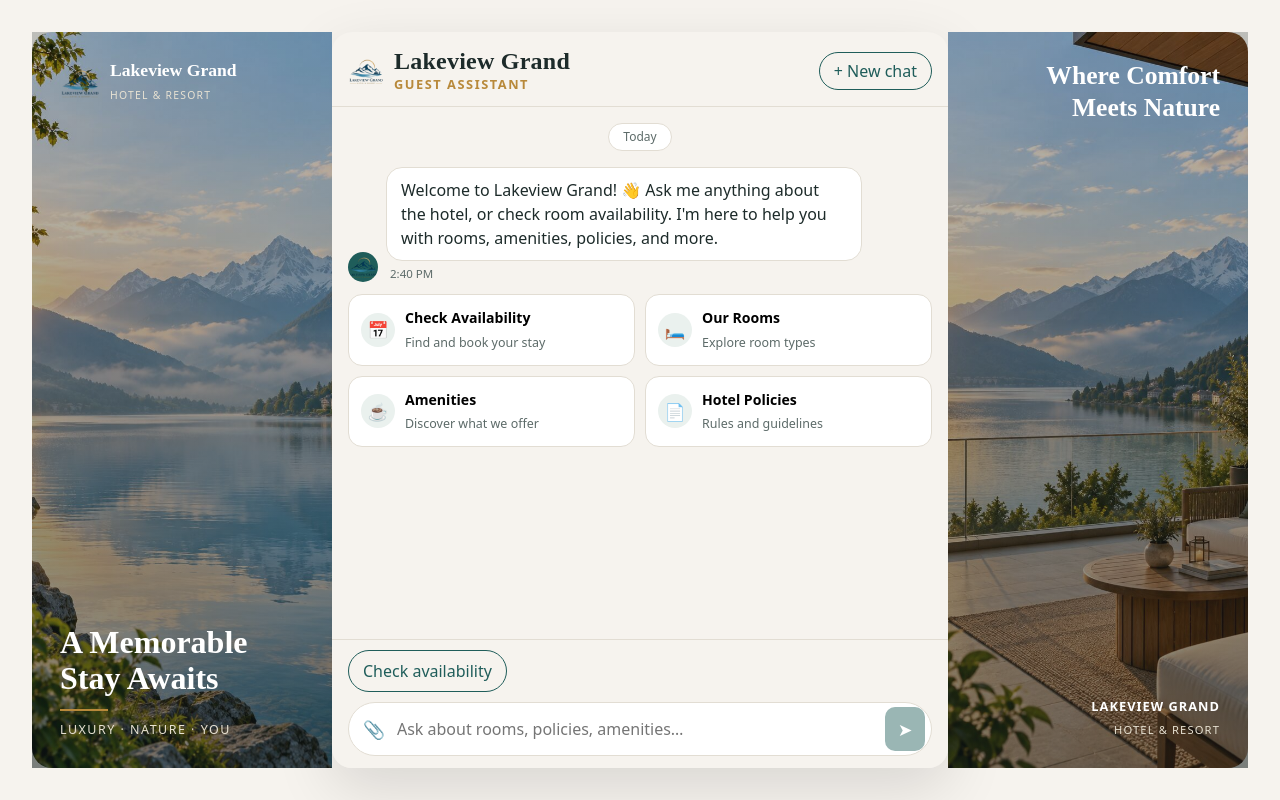
Scenario: follow-up question sends the whole conversation
In the field named "Your question": (635, 729) 393,707 -> 877,751, type "What time is check-in?"
Then press Enter
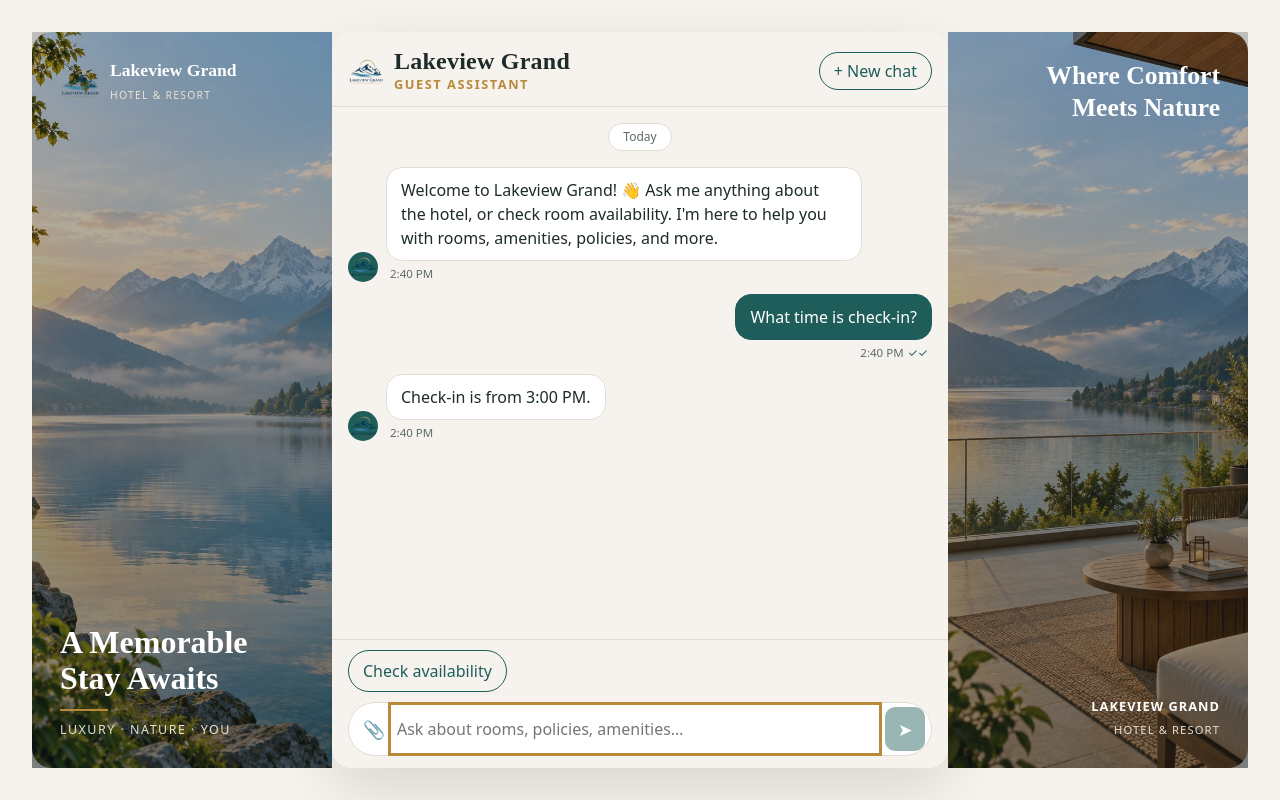
Now the text "Check-in is from 3:00 PM." is shown, box 386,374 -> 606,420
In the field named "Your question": (635, 729) 393,707 -> 877,751, type "And breakfast?"
Then press Enter
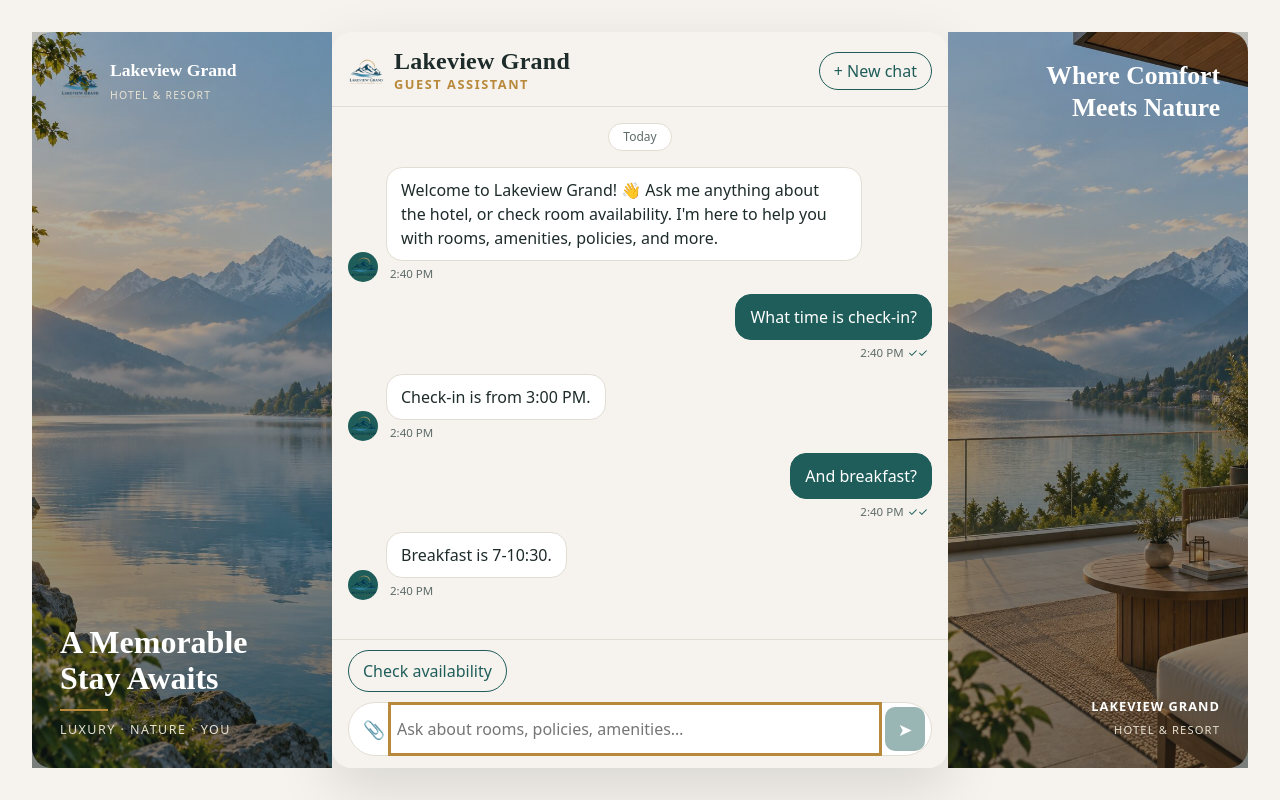
Now the text "Breakfast is 7-10:30." is shown, box 386,532 -> 567,578
